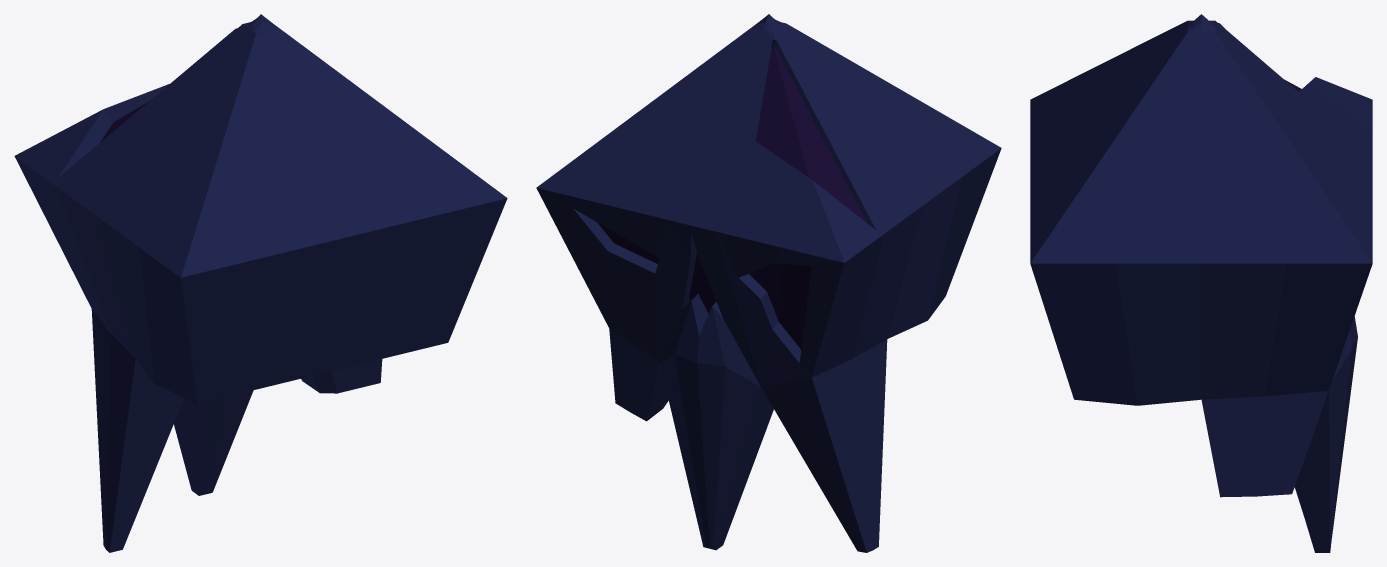
Rendered from rock_skull2.fbx.
3 renders of one model, left to right at view 1: azimuth 30°, elevation 25°; view 2: azimuth 150°, elevation 25°; view 3: azimuth 270°, elevation 25°, orthographic. The views are drawn at different scales.
Visible parts, largest first — view 1: rock_skull2; view 2: rock_skull2; view 3: rock_skull2.
Boxes of the visible parts, bbox=[...] form: rock_skull2: bbox=[14, 14, 507, 552]; rock_skull2: bbox=[536, 14, 1001, 552]; rock_skull2: bbox=[1030, 14, 1372, 552].
Size of the model in its own units: 1.52 by 1.34 by 2.31.
